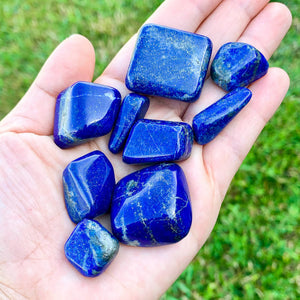Lapis_Lazuli: (107, 161, 194, 248), (125, 22, 212, 101), (52, 80, 122, 149), (60, 150, 115, 226), (62, 219, 121, 276), (121, 117, 193, 163), (209, 39, 270, 92)
